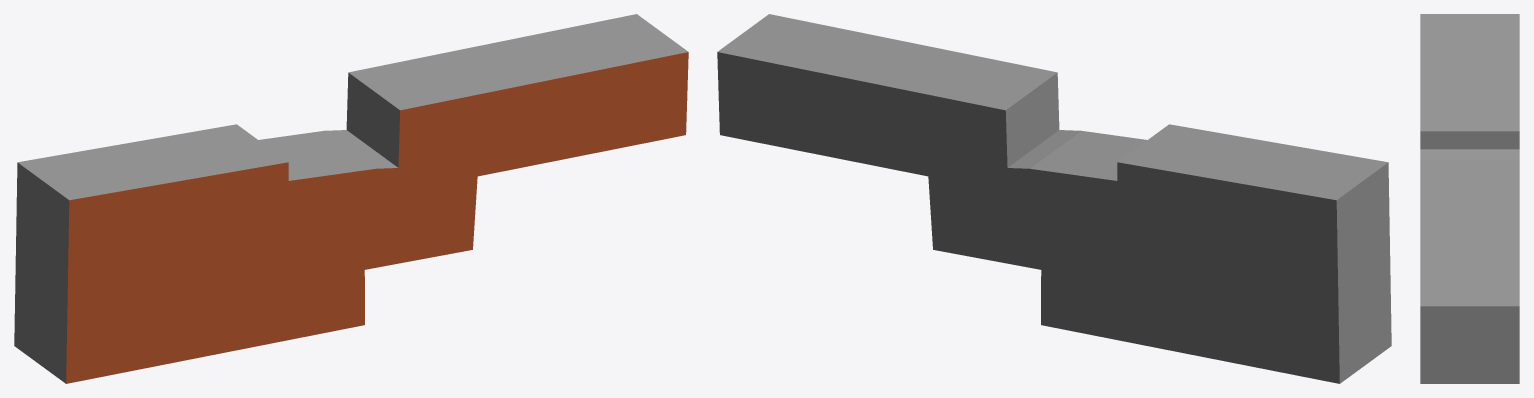
File: construction_6896_assumed_A_Casa_h6m.obj
The picture shows the model from 3 angles, left to right: view 1: azimuth 30°, elevation 25°; view 2: azimuth 150°, elevation 25°; view 3: azimuth 270°, elevation 25°; orthographic projection. The views are drawn at different scales.
Parts seen in each view (by area): view 1: construction_6896_assumed_A_Casa; view 2: construction_6896_assumed_A_Casa; view 3: construction_6896_assumed_A_Casa.
Part boxes in pixels (bbox=[...]): construction_6896_assumed_A_Casa: bbox=[14, 14, 688, 383]; construction_6896_assumed_A_Casa: bbox=[717, 14, 1391, 383]; construction_6896_assumed_A_Casa: bbox=[1420, 14, 1519, 383].
Size of the model in its own units: 41.56 by 13.15 by 6.
